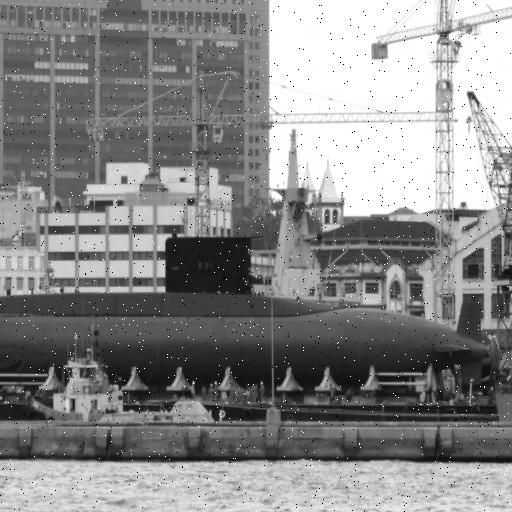submarine: (1, 226, 486, 383)
